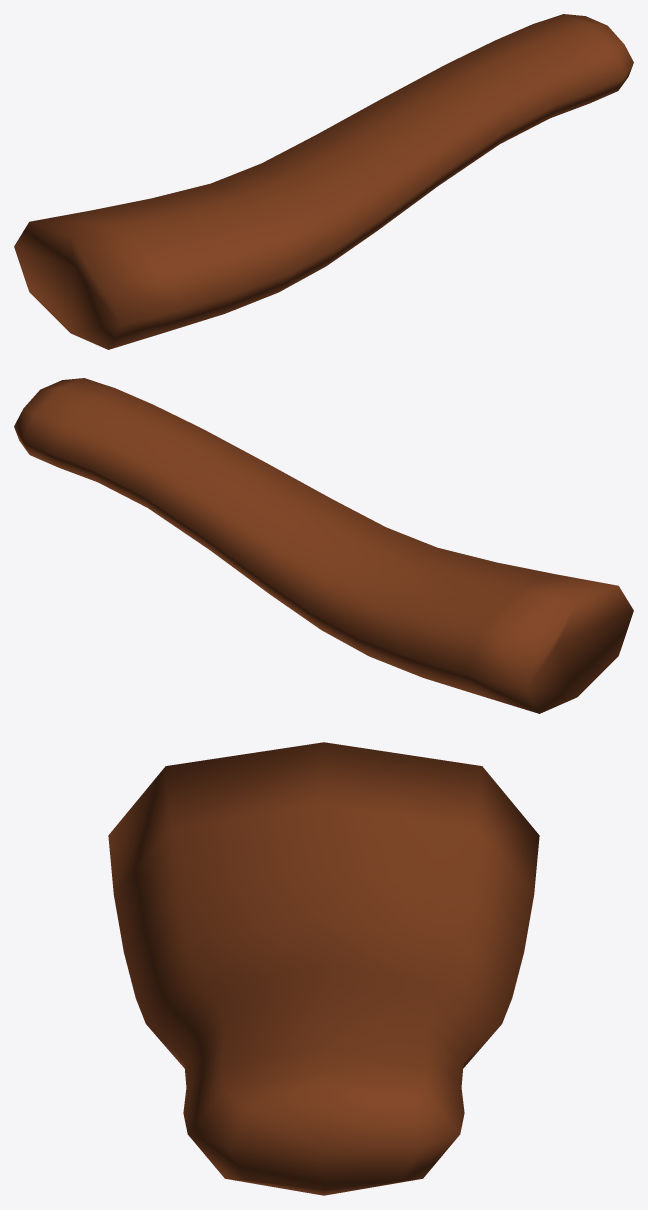
Rendered from Branch fork.fbx.
3 renders of one model, top to bottom at view 1: azimuth 30°, elevation 25°; view 2: azimuth 150°, elevation 25°; view 3: azimuth 270°, elevation 25°, orthographic. The views are drawn at different scales.
Visible parts, largest first — view 1: Branch 3; view 2: Branch 3; view 3: Branch 3.
Boxes of the visible parts, x1,y1,x2,y2 form: Branch 3: (14, 14, 633, 349); Branch 3: (14, 378, 633, 713); Branch 3: (108, 742, 539, 1195).
Bounding box in the file's own units: 735 × 688 × 2161.
